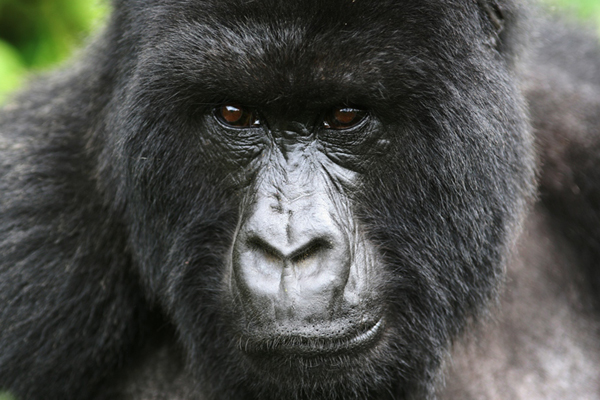Goriila: (10, 9, 585, 400)
